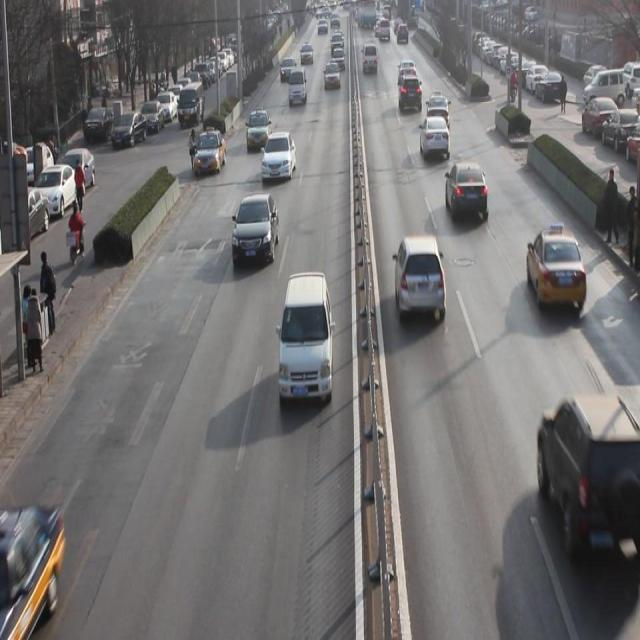car: (536, 392, 631, 557), (525, 221, 588, 311), (393, 232, 447, 327), (232, 194, 279, 266), (445, 159, 490, 220), (262, 129, 297, 182), (194, 126, 227, 176), (420, 112, 450, 158), (245, 107, 271, 150), (400, 70, 423, 108), (428, 90, 450, 128)
truck: (281, 272, 333, 406), (288, 65, 307, 106)
